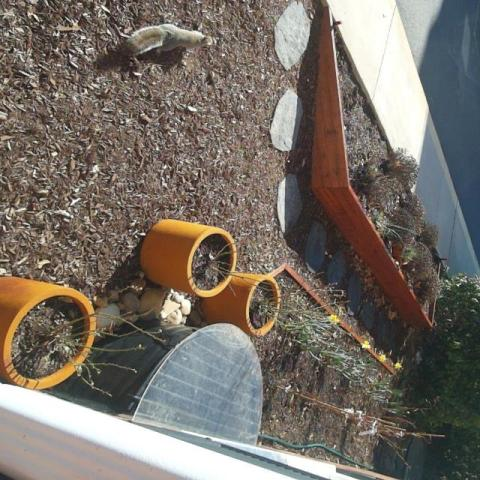small_animal: (117, 22, 215, 61)
